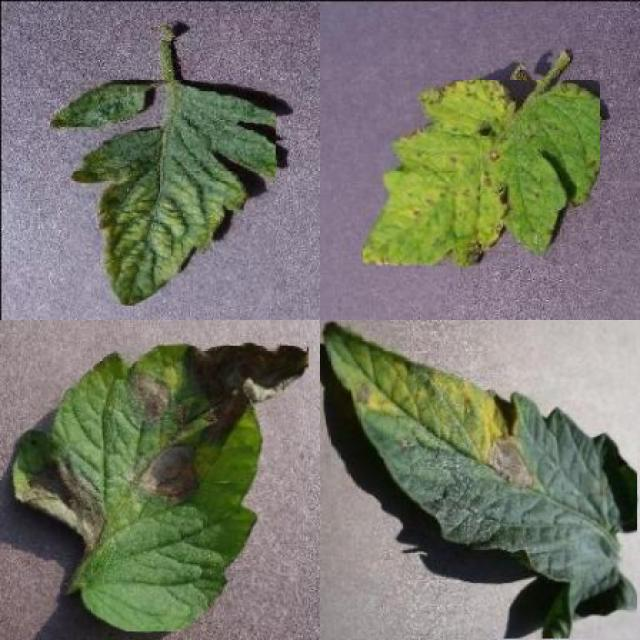Early Blight: (326, 322, 638, 638)
Late Blight: (12, 345, 308, 632)
Mosaic Virus: (68, 81, 276, 306)
Septoria: (363, 80, 600, 266)
